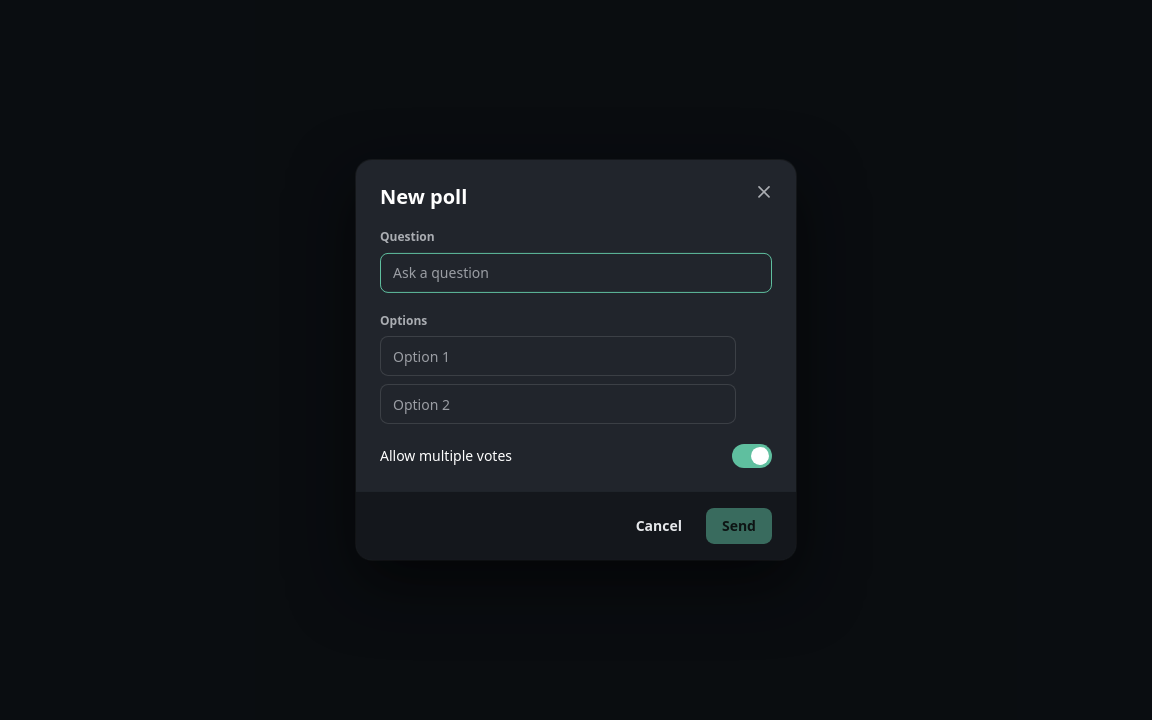
<PollCreateDialog /> › says a question is missing and puts the cursor there
In the field labelled "Option 1": (558, 356) [393, 337, 723, 375], type "a"
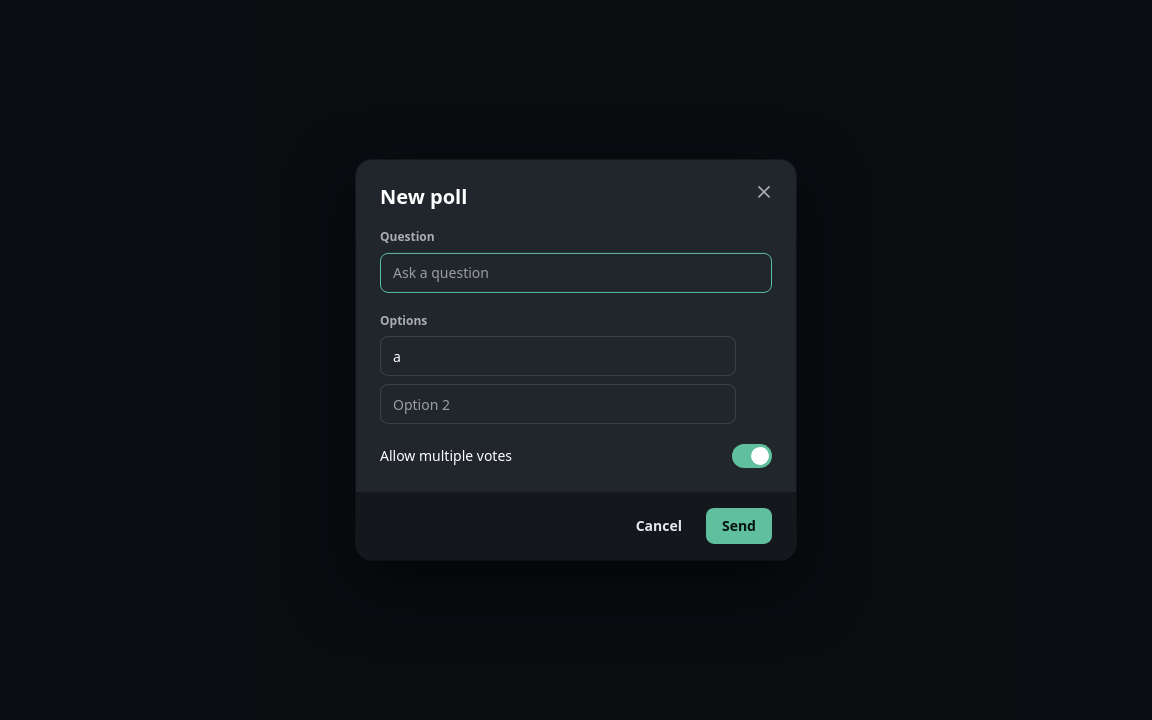
In the field labelled "Option 2": (558, 404) [393, 385, 723, 423], type "b"
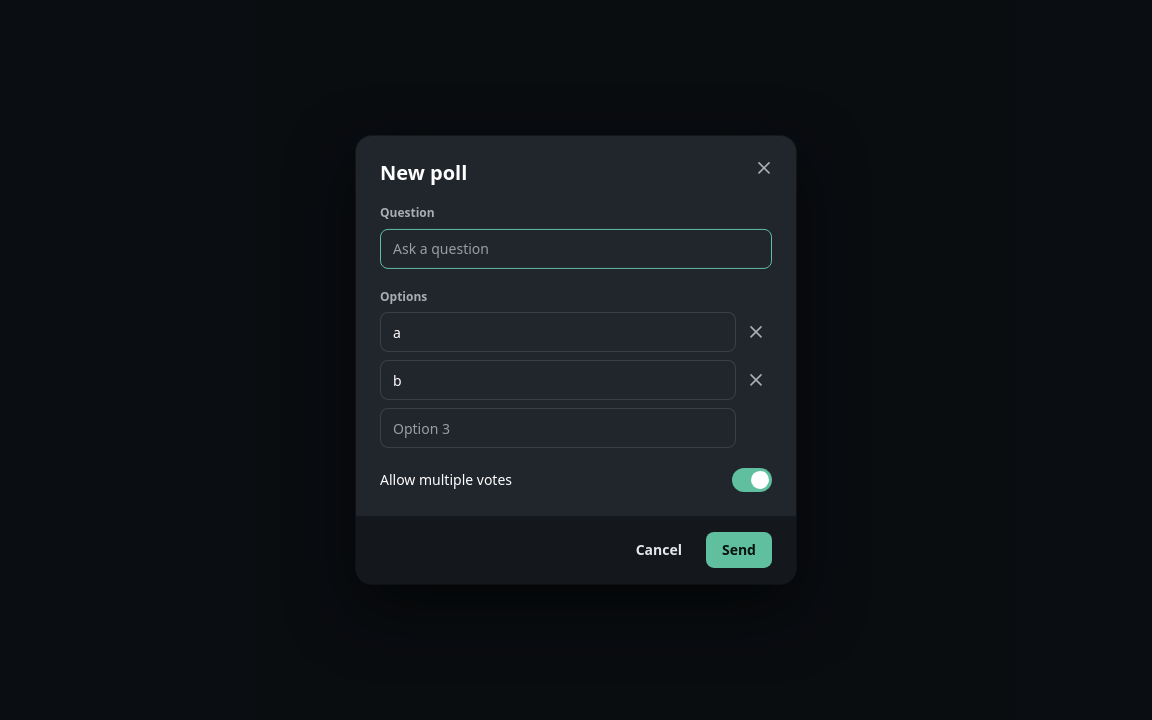
Click the button "Send": (739, 550) [706, 532, 772, 568]
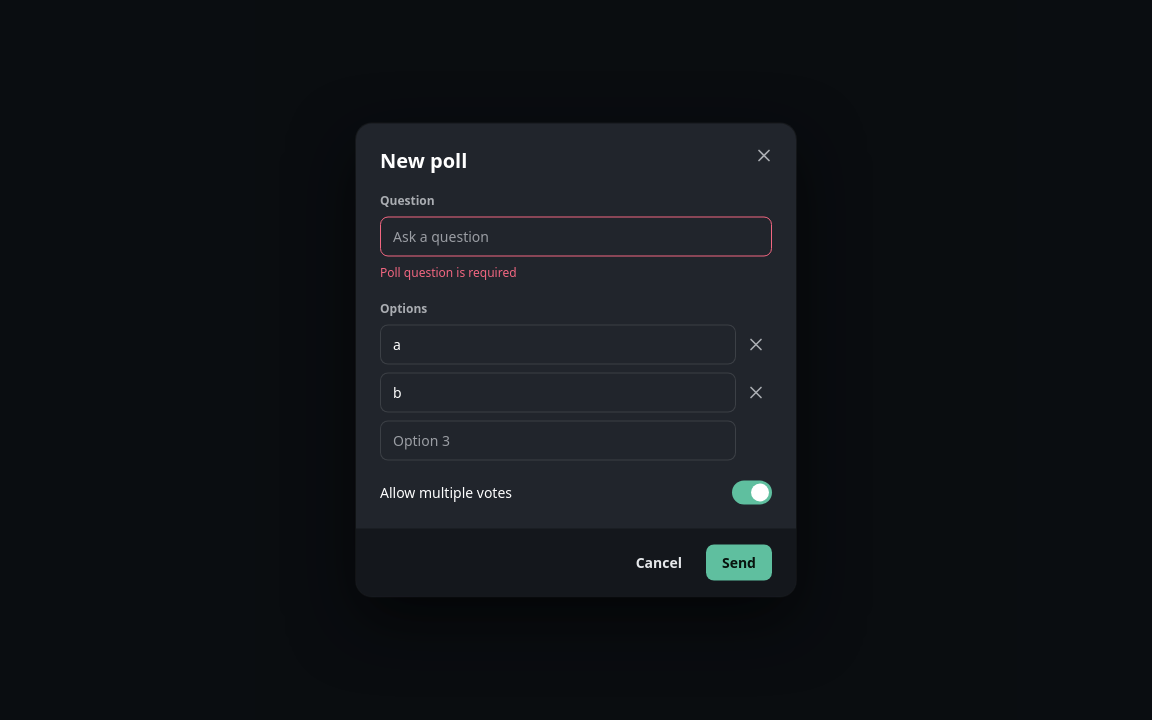
Check: the text "Poll question is required" is shown, box [380, 263, 517, 280]
In the field labelled "Question": (576, 236) [393, 217, 759, 255], type "Q?"
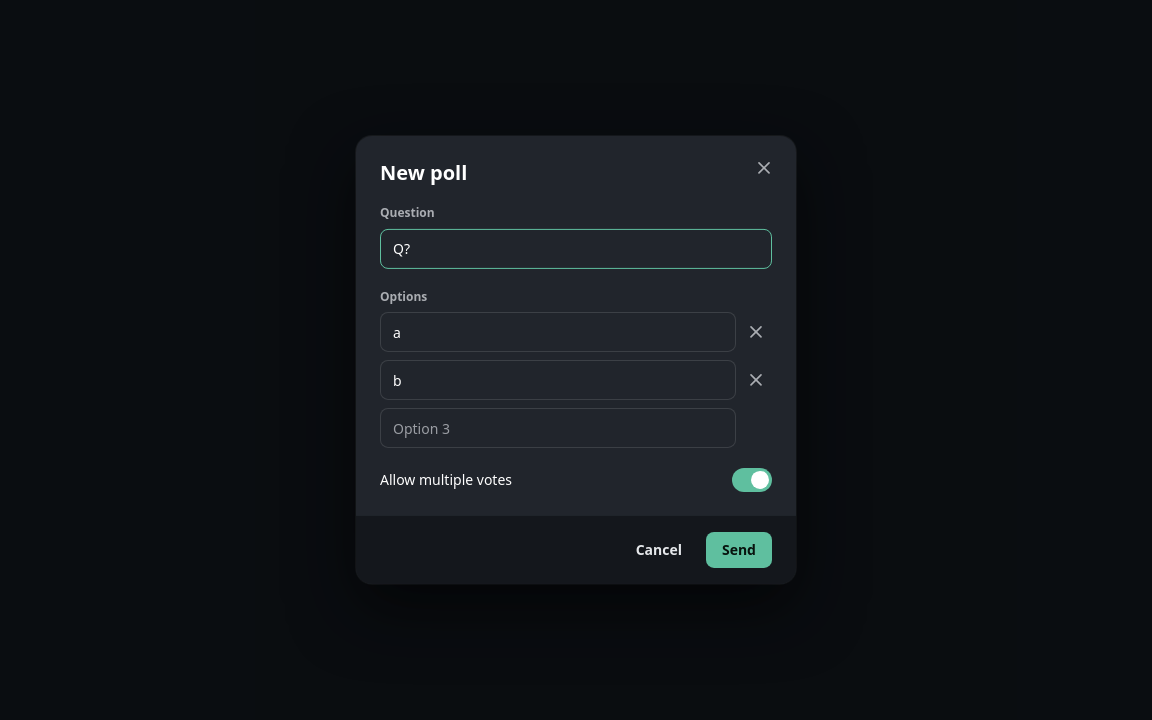
Check: the text "Poll question is required" is gone
